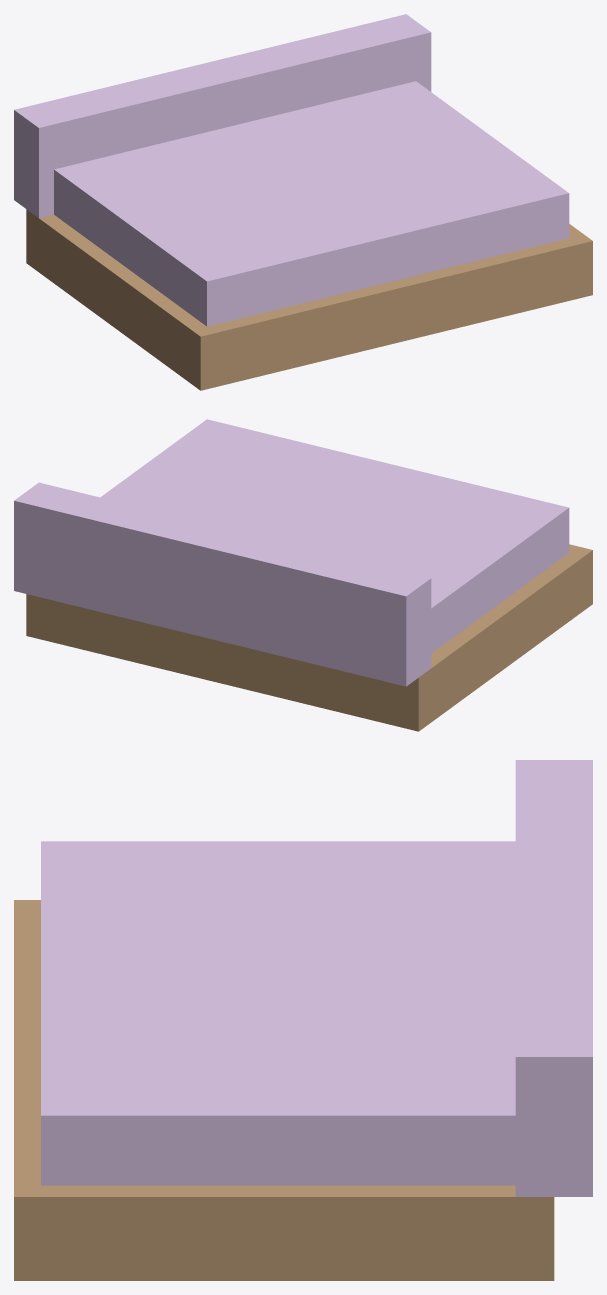
The model's file is Prop_Pet_AMF_Bed_V9.glb.
3 renders of one model, top to bottom at view 1: azimuth 30°, elevation 25°; view 2: azimuth 150°, elevation 25°; view 3: azimuth 270°, elevation 25°, orthographic. The views are drawn at different scales.
Parts seen in each view (by area): view 1: Prop_Pet_AMF_Bed_V9; view 2: Prop_Pet_AMF_Bed_V9; view 3: Prop_Pet_AMF_Bed_V9.
Part boxes in pixels (bbox=[...]): Prop_Pet_AMF_Bed_V9: bbox=[14, 14, 592, 390]; Prop_Pet_AMF_Bed_V9: bbox=[14, 419, 592, 731]; Prop_Pet_AMF_Bed_V9: bbox=[14, 760, 592, 1280].
Size of the model in its own units: 0.91 by 0.32 by 0.75.
